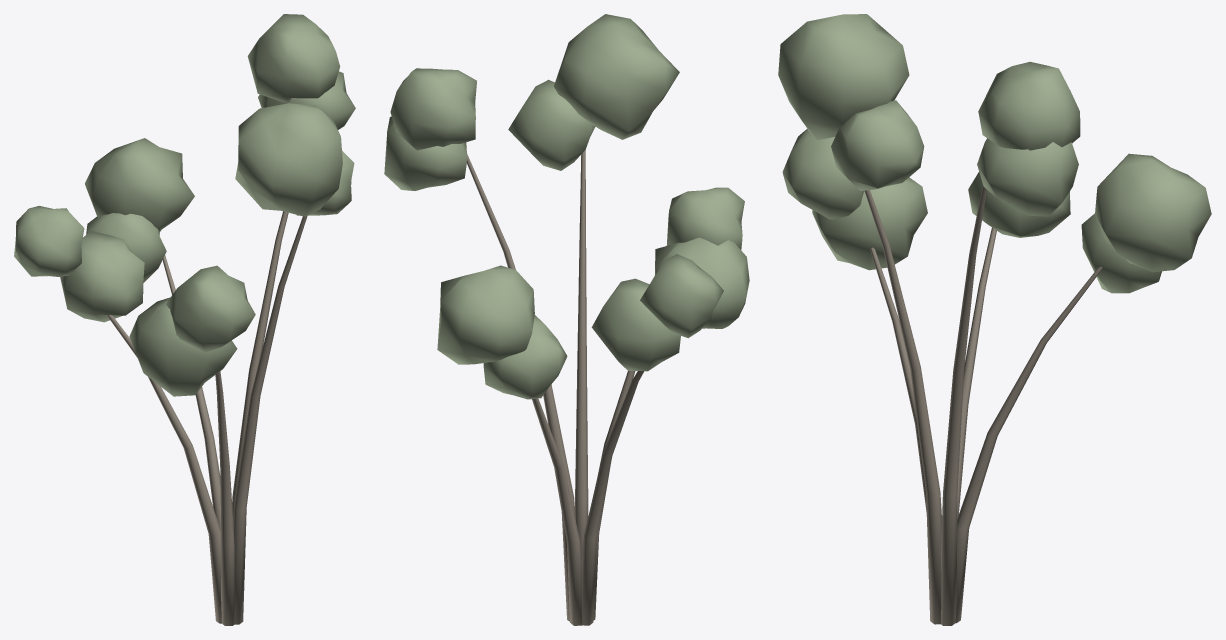
File: alpine-and-arctic-biomes-arctic-willow-dae06f91__20958.glb
The picture shows the model from 3 angles, left to right: view 1: azimuth 30°, elevation 25°; view 2: azimuth 150°, elevation 25°; view 3: azimuth 270°, elevation 25°; orthographic projection. The views are drawn at different scales.
Parts seen in each view (by area): view 1: arctic-willow; view 2: arctic-willow; view 3: arctic-willow.
Part boxes in pixels (x1,y1,x2,y2): arctic-willow: [14, 14, 355, 625]; arctic-willow: [384, 14, 749, 625]; arctic-willow: [778, 14, 1211, 625].
Bounding box in the file's own units: 0.5603 × 0.8971 × 0.5749.
